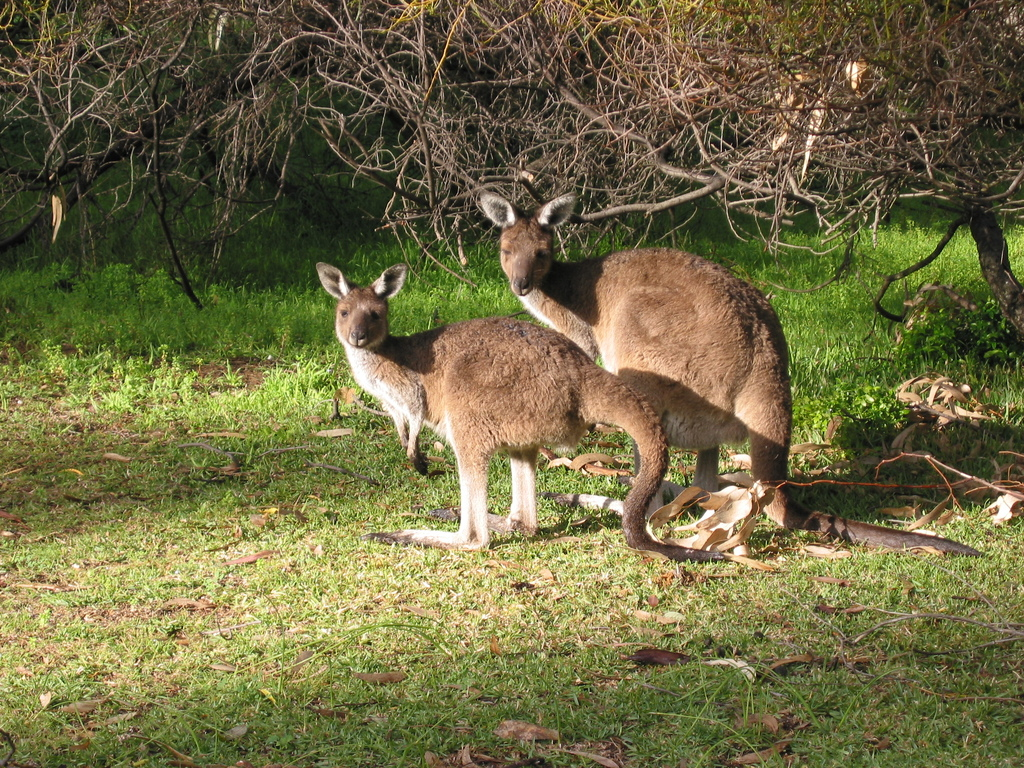kangaroo: (314, 266, 721, 558)
